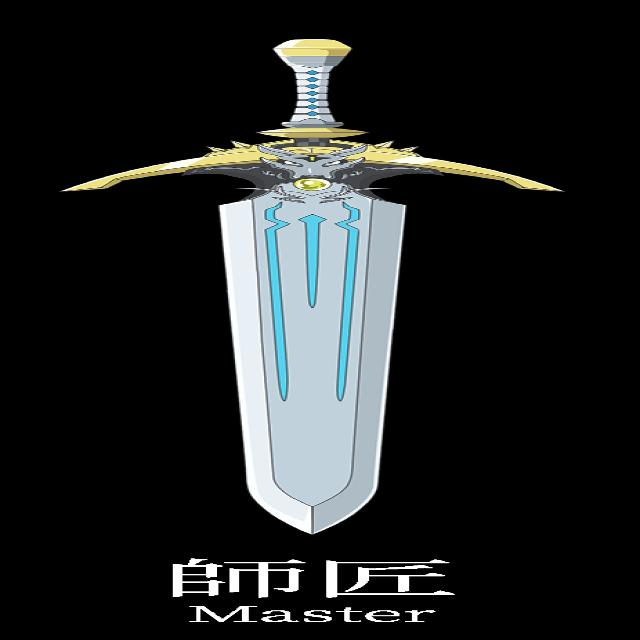Weapon: (42, 34, 570, 542)
